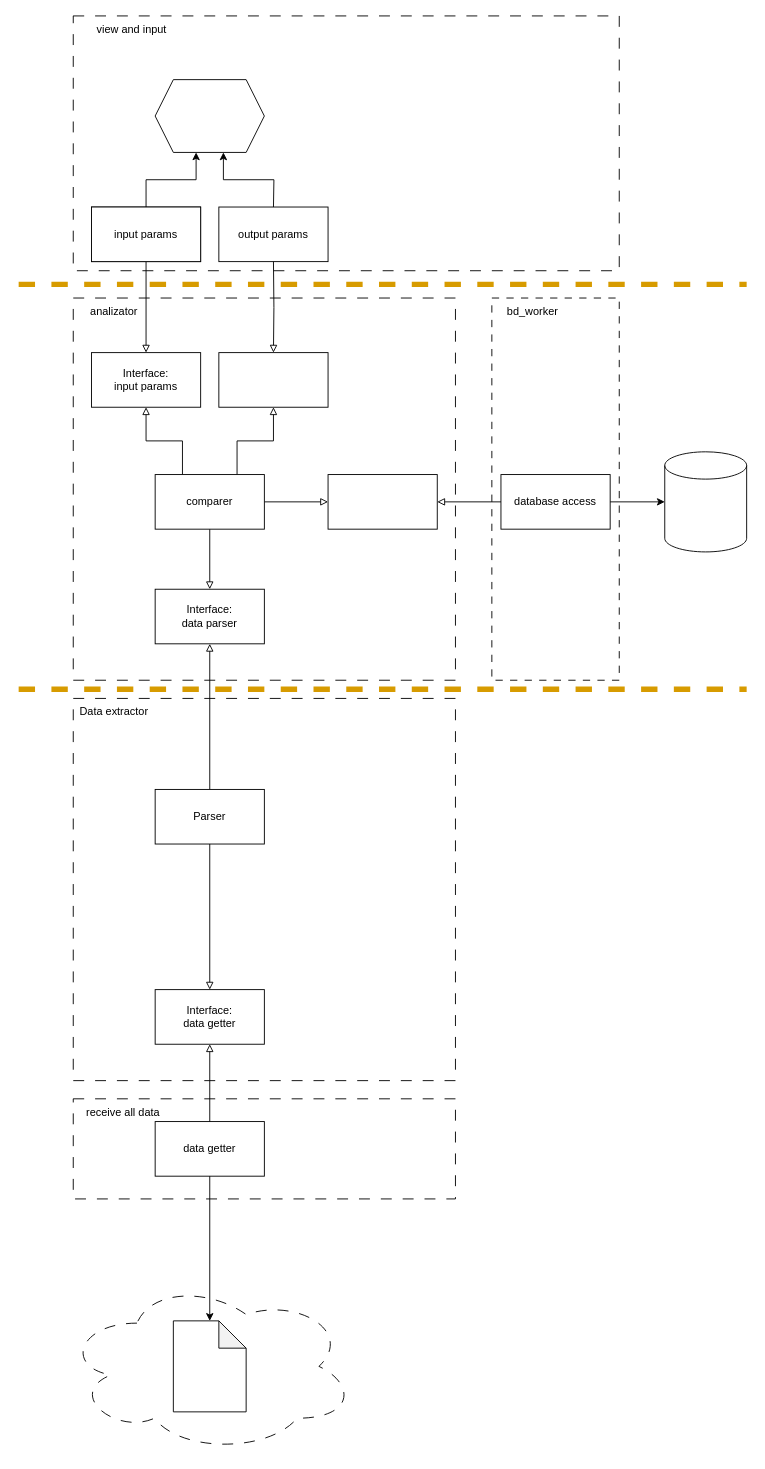
Some shapes in this 765 by 1469 pixel diagram are drawn without their labels. Each missing label, with the box of its shape:
Console: (154, 79, 264, 152)
Interface: database: (327, 474, 437, 529)
Interface: output params: (218, 352, 328, 407)
resources: (172, 1320, 246, 1412)
site info: (664, 451, 747, 552)
